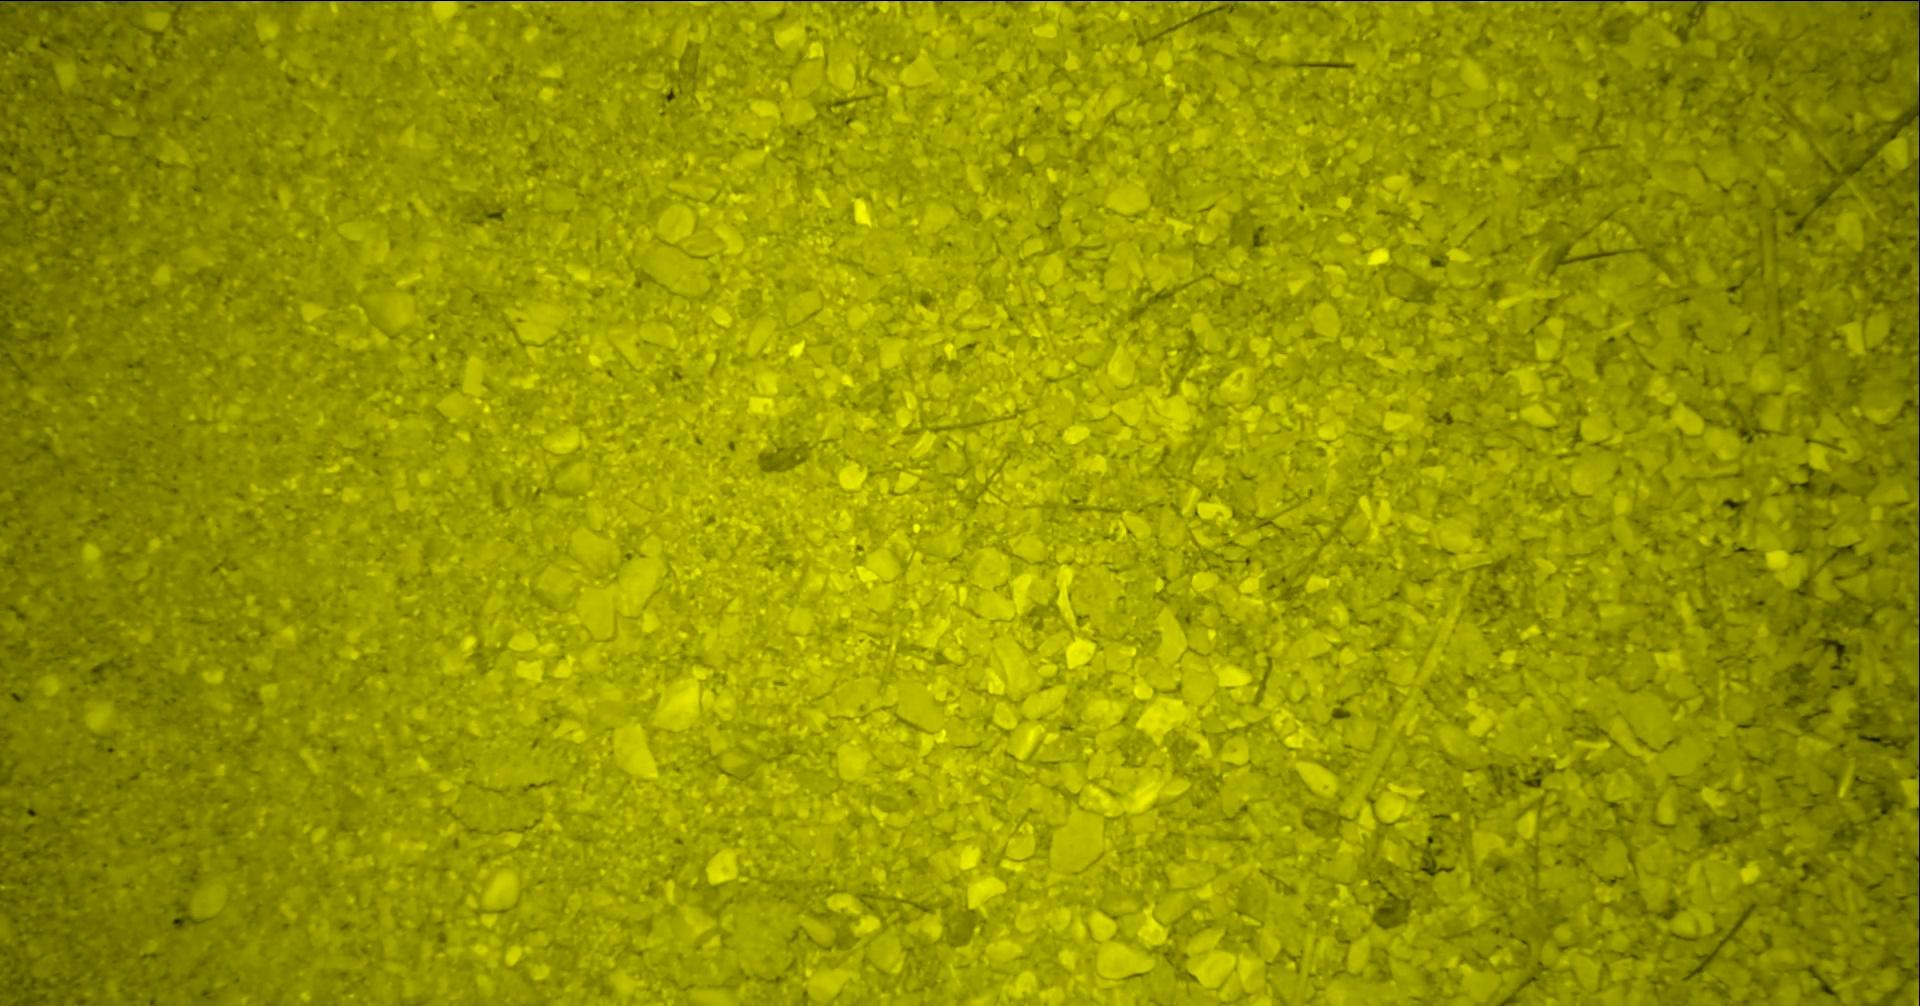ant: (1897, 0, 1920, 27), (1, 0, 89, 1)
